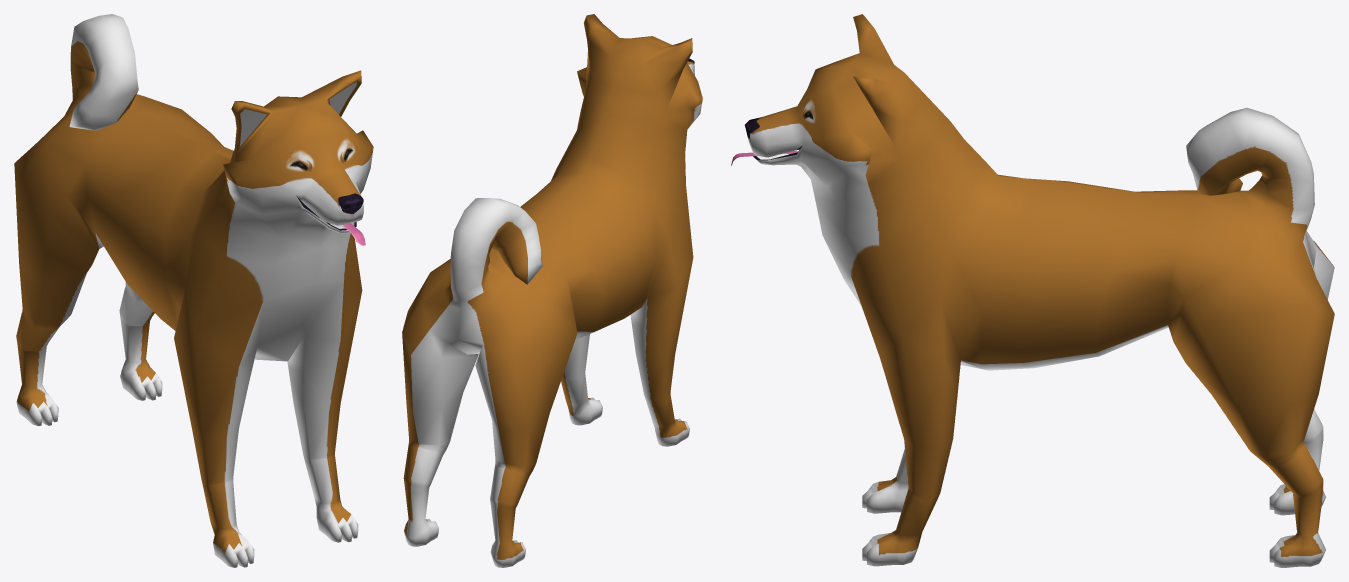
The model's file is shiba.dae.
3 views of the same model, side by side, from view 1: azimuth 30°, elevation 25°; view 2: azimuth 150°, elevation 25°; view 3: azimuth 270°, elevation 25° (orthographic). The views are drawn at different scales.
Parts seen in each view (by area): view 1: shiba; view 2: shiba; view 3: shiba.
Part boxes in pixels (bbox=[...]): shiba: bbox=[14, 14, 373, 567]; shiba: bbox=[402, 14, 702, 567]; shiba: bbox=[745, 14, 1334, 567].
Bounding box in the file's own units: 0.1691 × 0.4883 × 0.437.
Materials: 1 (1 with a texture image).
